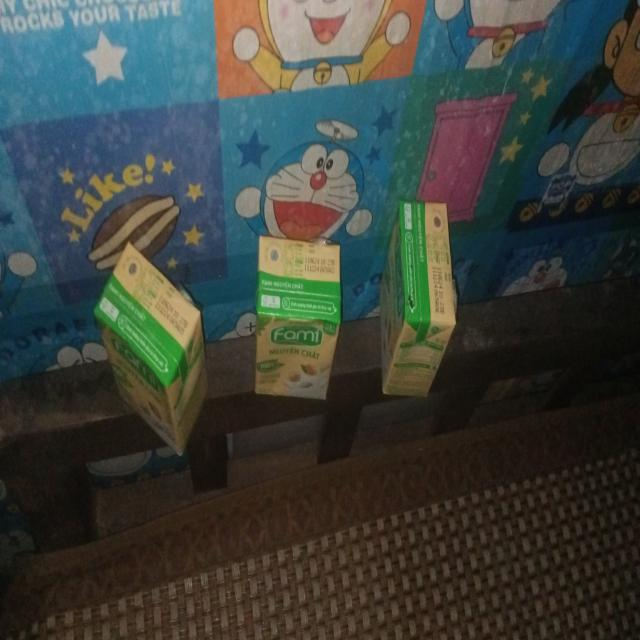Fami: (98, 239, 210, 455), (382, 202, 458, 401), (257, 236, 342, 401)
